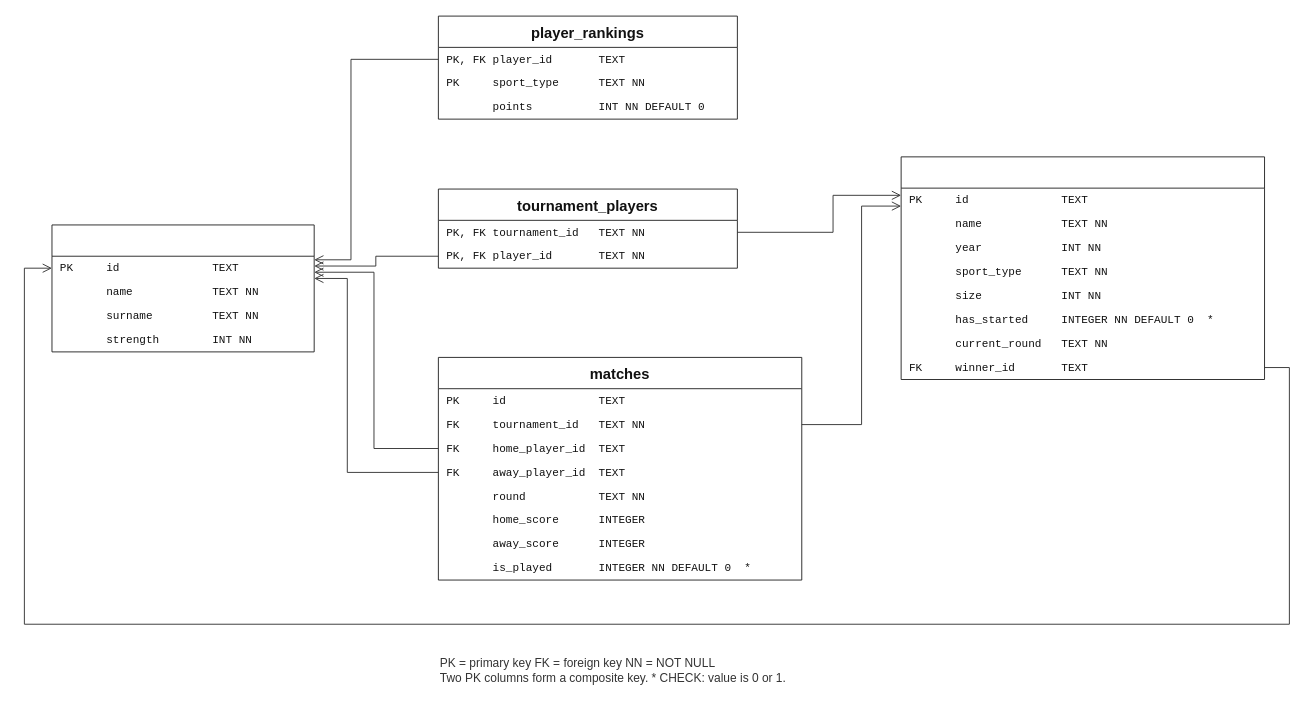
Image size: 1315x706. Some labels were removed from this diagram. The box of each missing label's shape, as (x1, y1, x2, y2) in pixels:
players: (51, 224, 314, 352)
tournaments: (900, 156, 1265, 380)
